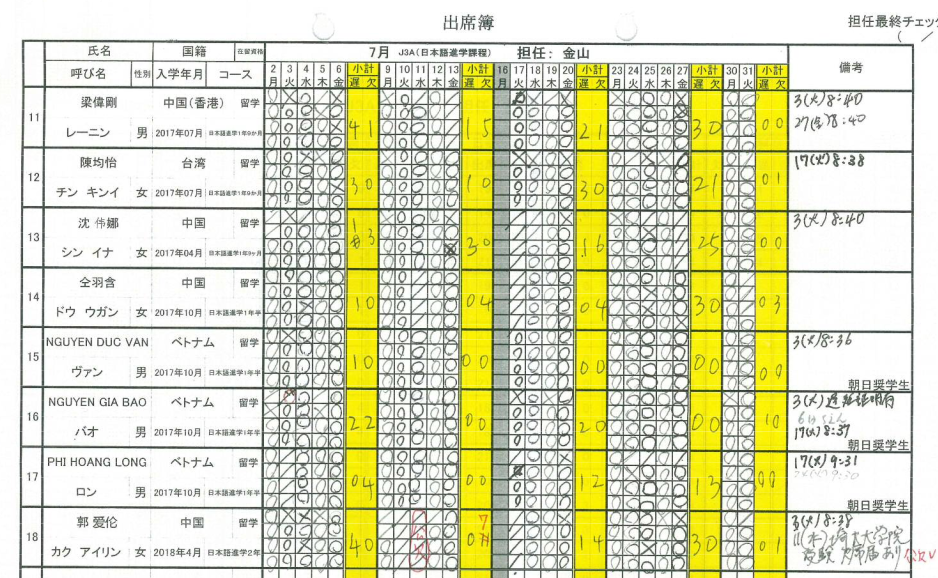/: (525, 225, 543, 241), (297, 209, 314, 225), (279, 448, 296, 464), (279, 478, 296, 494), (411, 269, 428, 285), (509, 270, 526, 286), (508, 554, 525, 570), (737, 511, 754, 527), (738, 271, 755, 287), (314, 88, 330, 104), (312, 388, 328, 404), (394, 509, 410, 525), (444, 104, 460, 120), (444, 89, 460, 105), (543, 90, 559, 106), (639, 450, 655, 466), (673, 225, 689, 241), (264, 209, 281, 224), (264, 224, 281, 239), (279, 494, 296, 509), (377, 509, 394, 524), (393, 524, 410, 539), (393, 539, 410, 554), (393, 554, 410, 569), (426, 510, 443, 525), (411, 299, 428, 314), (444, 119, 461, 134), (525, 210, 542, 225), (509, 255, 526, 270), (509, 300, 526, 315), (509, 315, 526, 330), (738, 287, 755, 302), (624, 151, 641, 166), (412, 89, 429, 104), (263, 388, 279, 403), (377, 524, 393, 539), (444, 134, 460, 149), (509, 211, 525, 226), (510, 226, 526, 241), (508, 510, 524, 525), (509, 525, 525, 540), (623, 450, 639, 465), (739, 302, 755, 317), (641, 211, 657, 226), (673, 241, 689, 256), (673, 256, 689, 271), (739, 151, 755, 166), (509, 286, 526, 300), (508, 450, 525, 464), (673, 451, 688, 466), (279, 464, 295, 478), (411, 314, 427, 328), (412, 285, 428, 299), (509, 241, 525, 255), (508, 540, 524, 554), (674, 211, 689, 225)
x: (379, 88, 396, 105), (330, 88, 346, 106), (295, 508, 312, 524), (311, 508, 328, 524), (280, 328, 297, 344), (296, 298, 313, 314), (379, 209, 396, 225), (509, 150, 526, 166), (314, 104, 331, 120), (280, 88, 297, 104), (655, 511, 673, 526), (508, 390, 526, 405), (609, 90, 625, 106), (527, 90, 543, 106), (673, 90, 690, 105), (657, 151, 674, 166), (640, 286, 657, 301), (541, 390, 558, 405), (312, 403, 329, 418), (526, 150, 543, 165), (379, 150, 396, 165), (296, 149, 313, 164), (641, 226, 657, 241), (673, 315, 688, 331), (722, 391, 738, 406), (623, 466, 639, 481), (639, 541, 655, 556), (557, 510, 573, 525), (557, 450, 573, 465), (279, 509, 295, 524), (263, 403, 279, 418), (281, 208, 297, 223), (444, 210, 460, 225), (558, 210, 574, 225), (329, 179, 344, 195), (313, 149, 329, 164), (329, 119, 345, 134), (607, 211, 624, 225), (558, 151, 575, 165), (296, 538, 311, 553), (559, 90, 574, 105), (641, 151, 657, 165), (641, 301, 657, 315), (673, 511, 687, 526)
